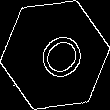O_SW: (24, 22, 86, 88)
